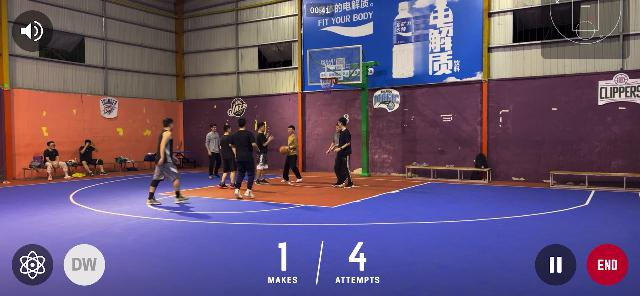ball: (278, 145, 288, 155)
basket: (318, 76, 338, 94)
